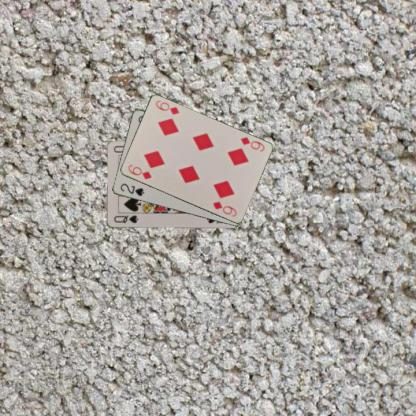2s: (117, 180, 145, 198)
6d: (237, 134, 266, 153), (126, 162, 152, 181)
Qs: (111, 213, 139, 225)
